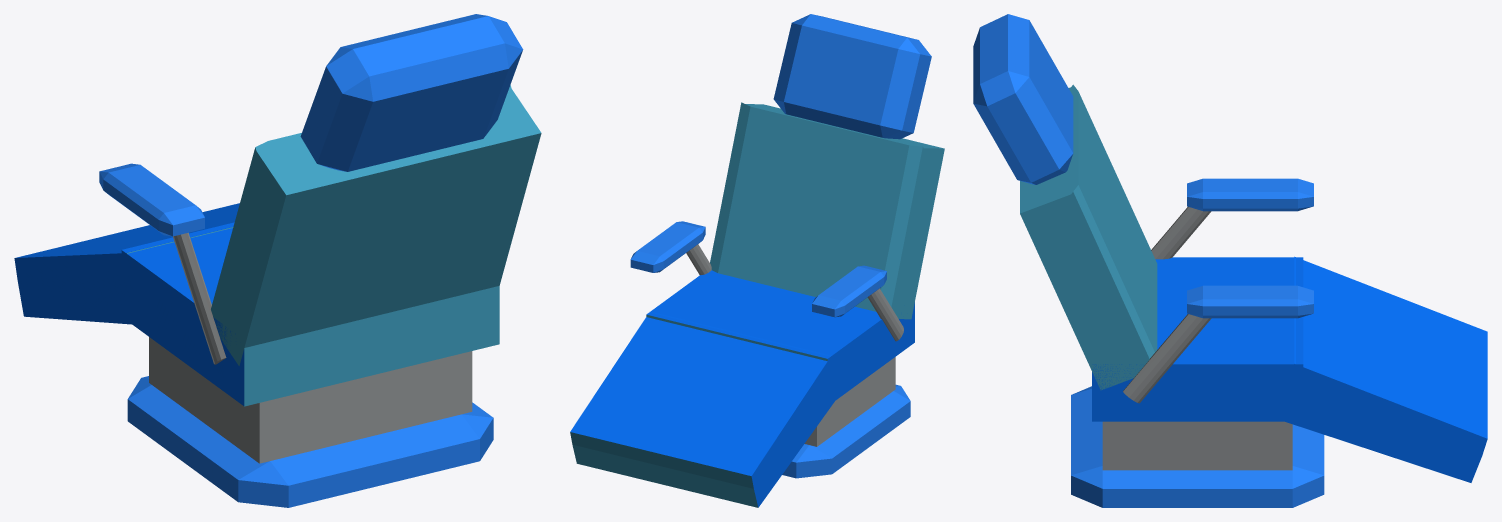
Rendered from Silla.glb.
The picture shows the model from 3 angles, left to right: view 1: azimuth 30°, elevation 25°; view 2: azimuth 150°, elevation 25°; view 3: azimuth 270°, elevation 25°; orthographic projection. The views are drawn at different scales.
Visible parts, largest first — view 1: Silla, beveled_cuboid (×3), cylinder; view 2: Silla, beveled_cuboid (×4), cylinder (×2); view 3: Silla, beveled_cuboid (×4), cylinder (×2).
Boxes of the visible parts, x1=… form: Silla: x1=14, y1=85, x2=541, y2=463; beveled_cuboid (×3): x1=99, y1=14, x2=523, y2=507; cylinder: x1=173, y1=232, x2=226, y2=364; Silla: x1=570, y1=102, x2=944, y2=507; beveled_cuboid (×4): x1=630, y1=14, x2=931, y2=478; cylinder (×2): x1=686, y1=244, x2=903, y2=341; Silla: x1=1020, y1=84, x2=1487, y2=482; beveled_cuboid (×4): x1=973, y1=14, x2=1324, y2=507; cylinder (×2): x1=1123, y1=206, x2=1211, y2=403.
Bounding box in the file's own units: 0.875 × 1.38 × 1.52.
Materials: 1 (1 with a texture image).
